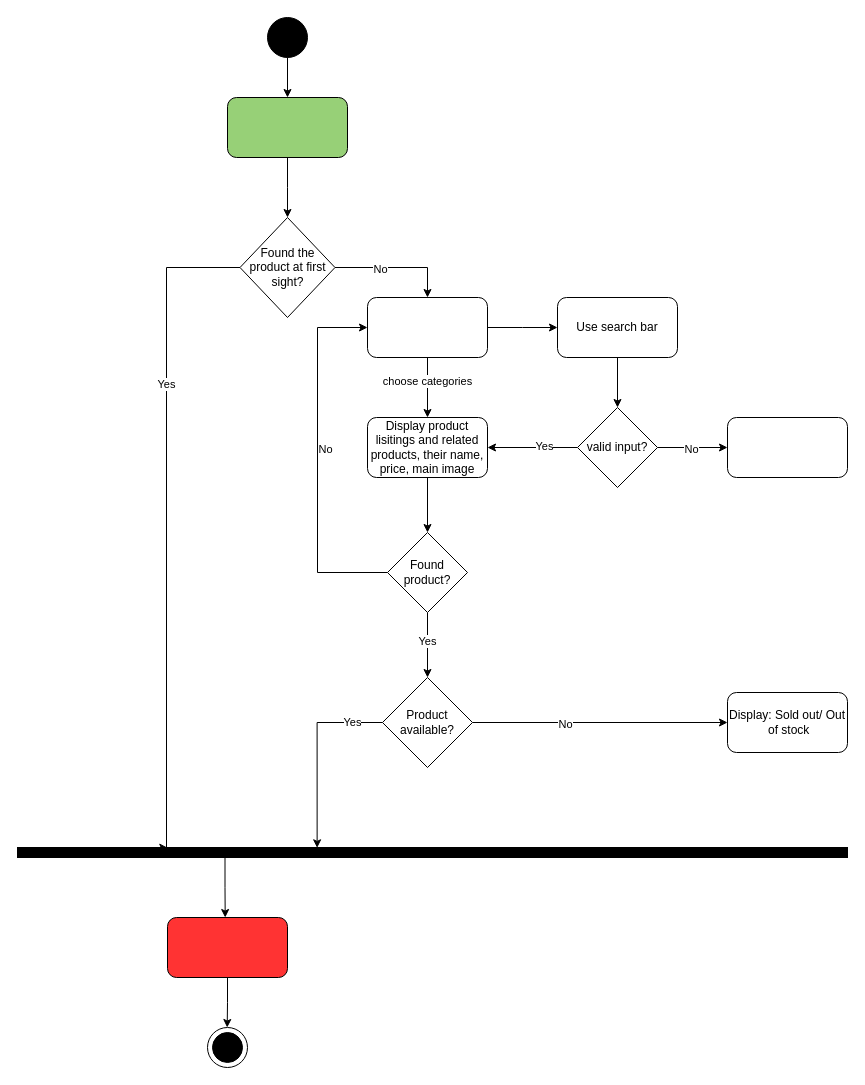
Image size: 865x1085. Some labels were removed from this diagram. The shapes that lost their labels are listed below. From the top down, each one's centre as x and y in pixels, then its label:
At point 287,127: "Access catalogue".
At point 427,327: "Search for product".
At point 787,447: "Display: Cannot found product".
At point 227,947: "Close event".
